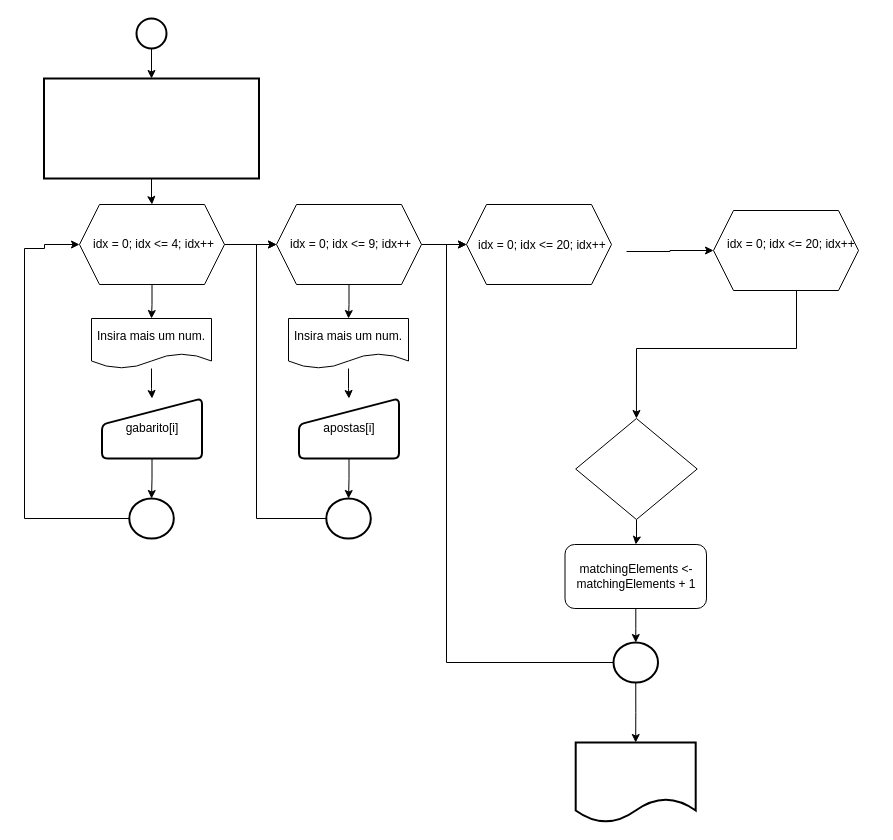
This 893x840 diagram has some shape labels left out. The centre of each missing label's shape, as x and y in pixels:
apostas[j] == gabarito[i]: (x=636, y=469)
inteiro matchingElements, i, j, num inteiro gabarito [5] inteiro apostas [10]: (x=151, y=128)
matchingElements, " dezenas foram acertadas!": (x=635, y=782)
